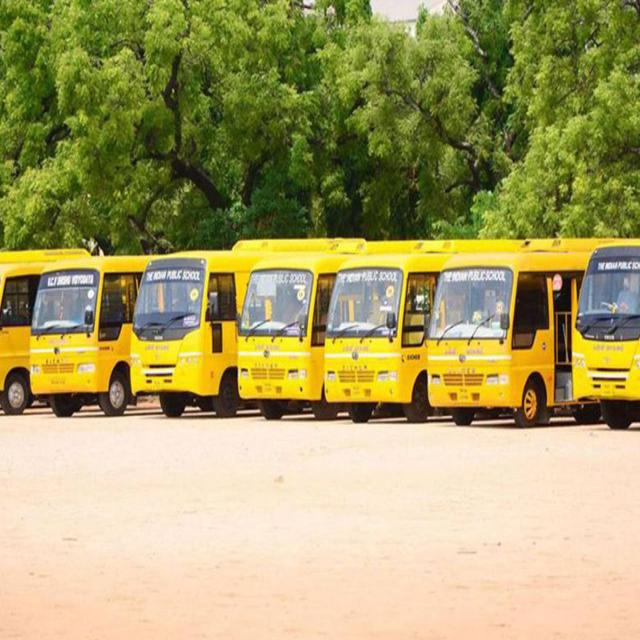bus: (428, 238, 604, 427), (130, 242, 312, 418), (326, 251, 451, 422), (30, 258, 149, 418), (238, 253, 346, 419), (572, 240, 640, 429)
